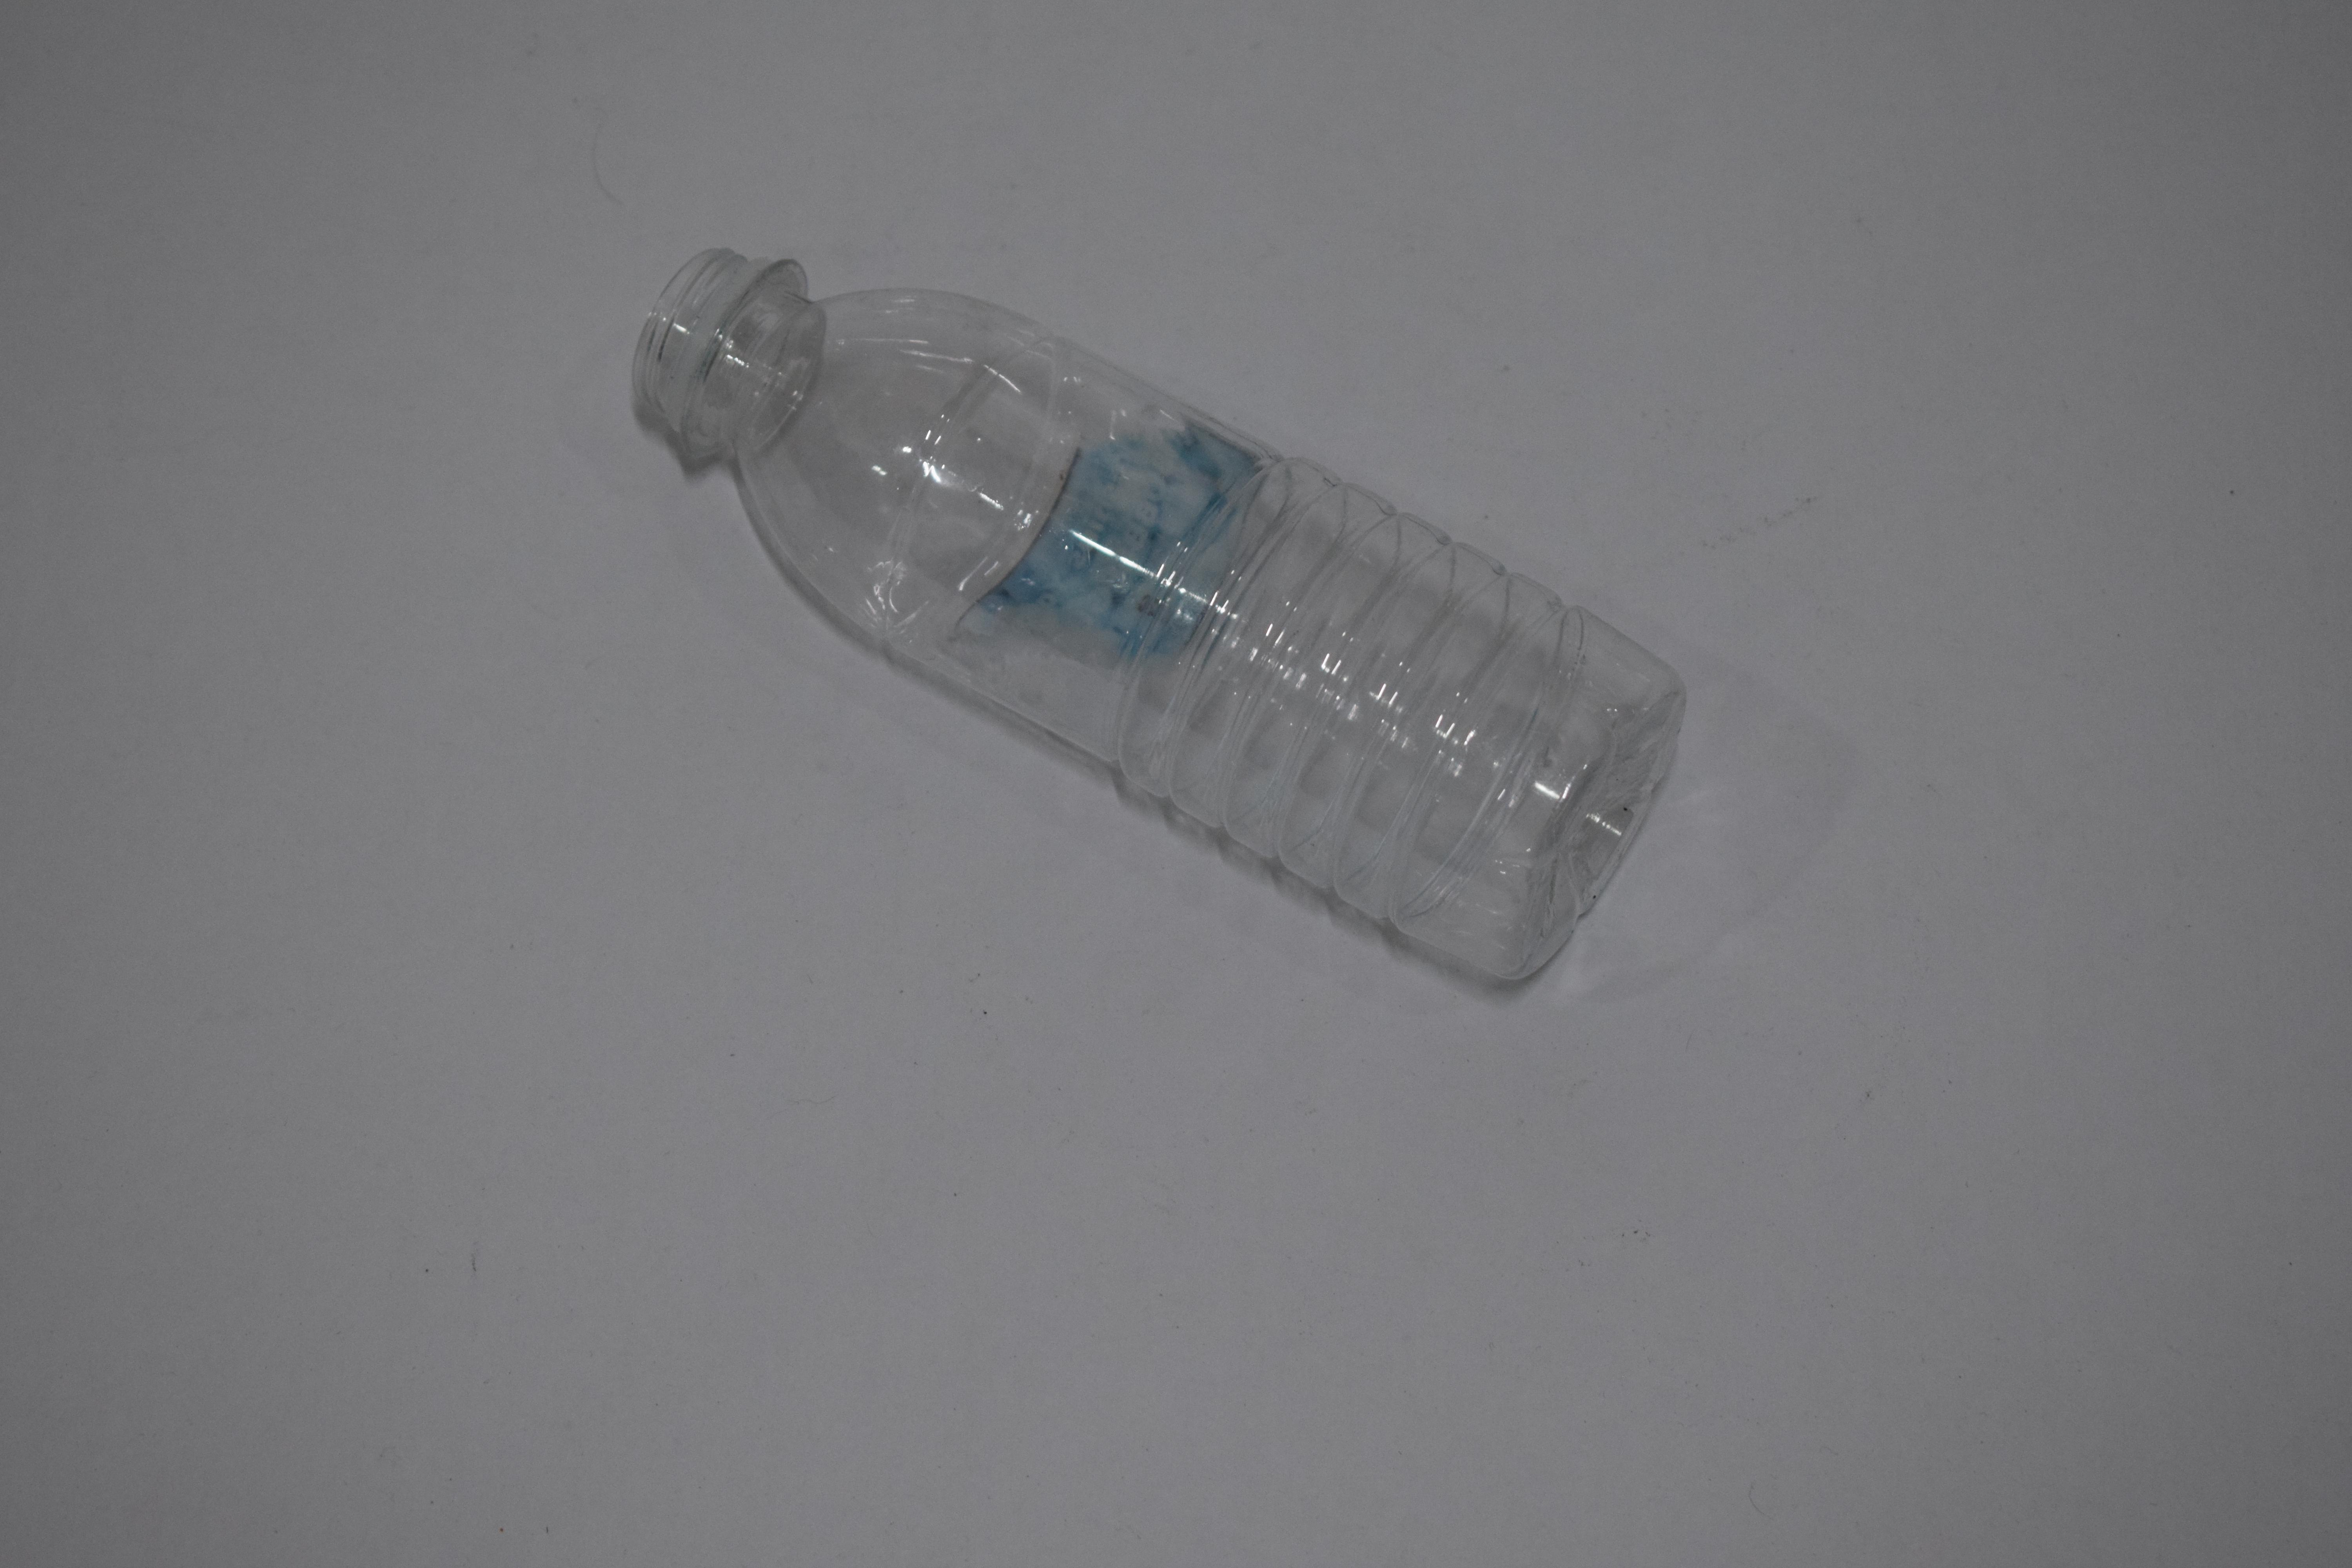bottle: (679, 231, 1634, 999)
